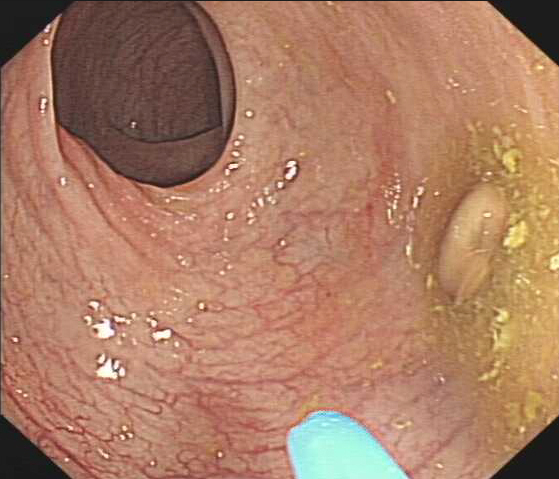adenoma: (434, 179, 510, 302)
